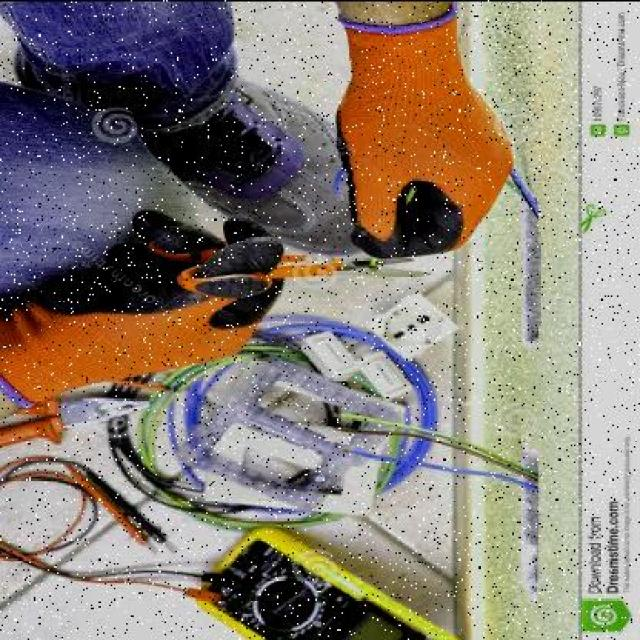shoes: (138, 102, 342, 246)
